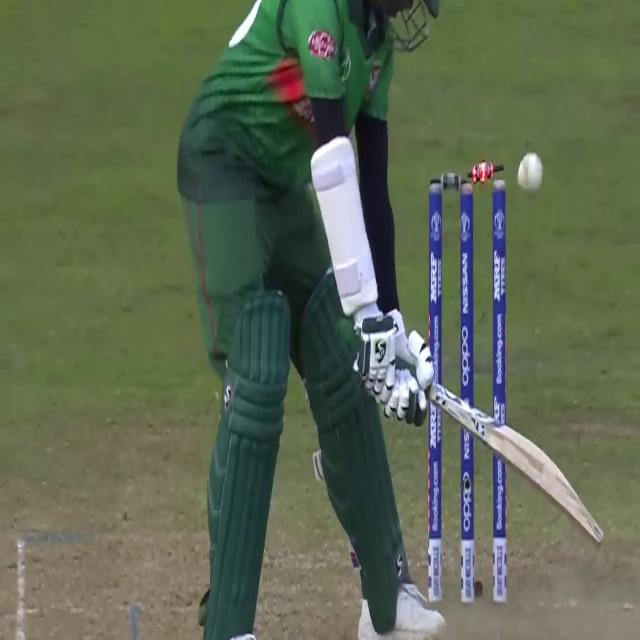ball: (512, 149, 546, 203)
